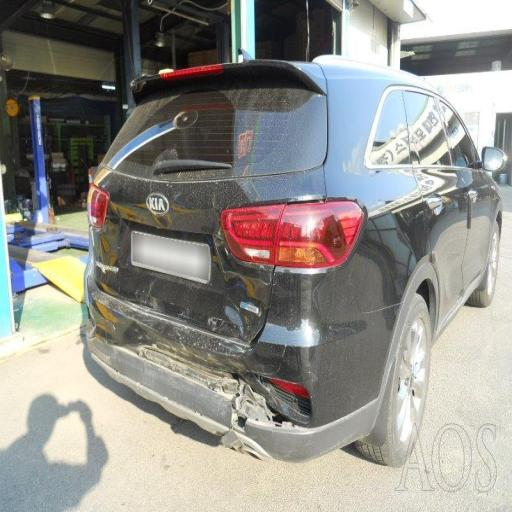broken: (86, 302, 312, 449)
dent: (92, 175, 276, 312)
